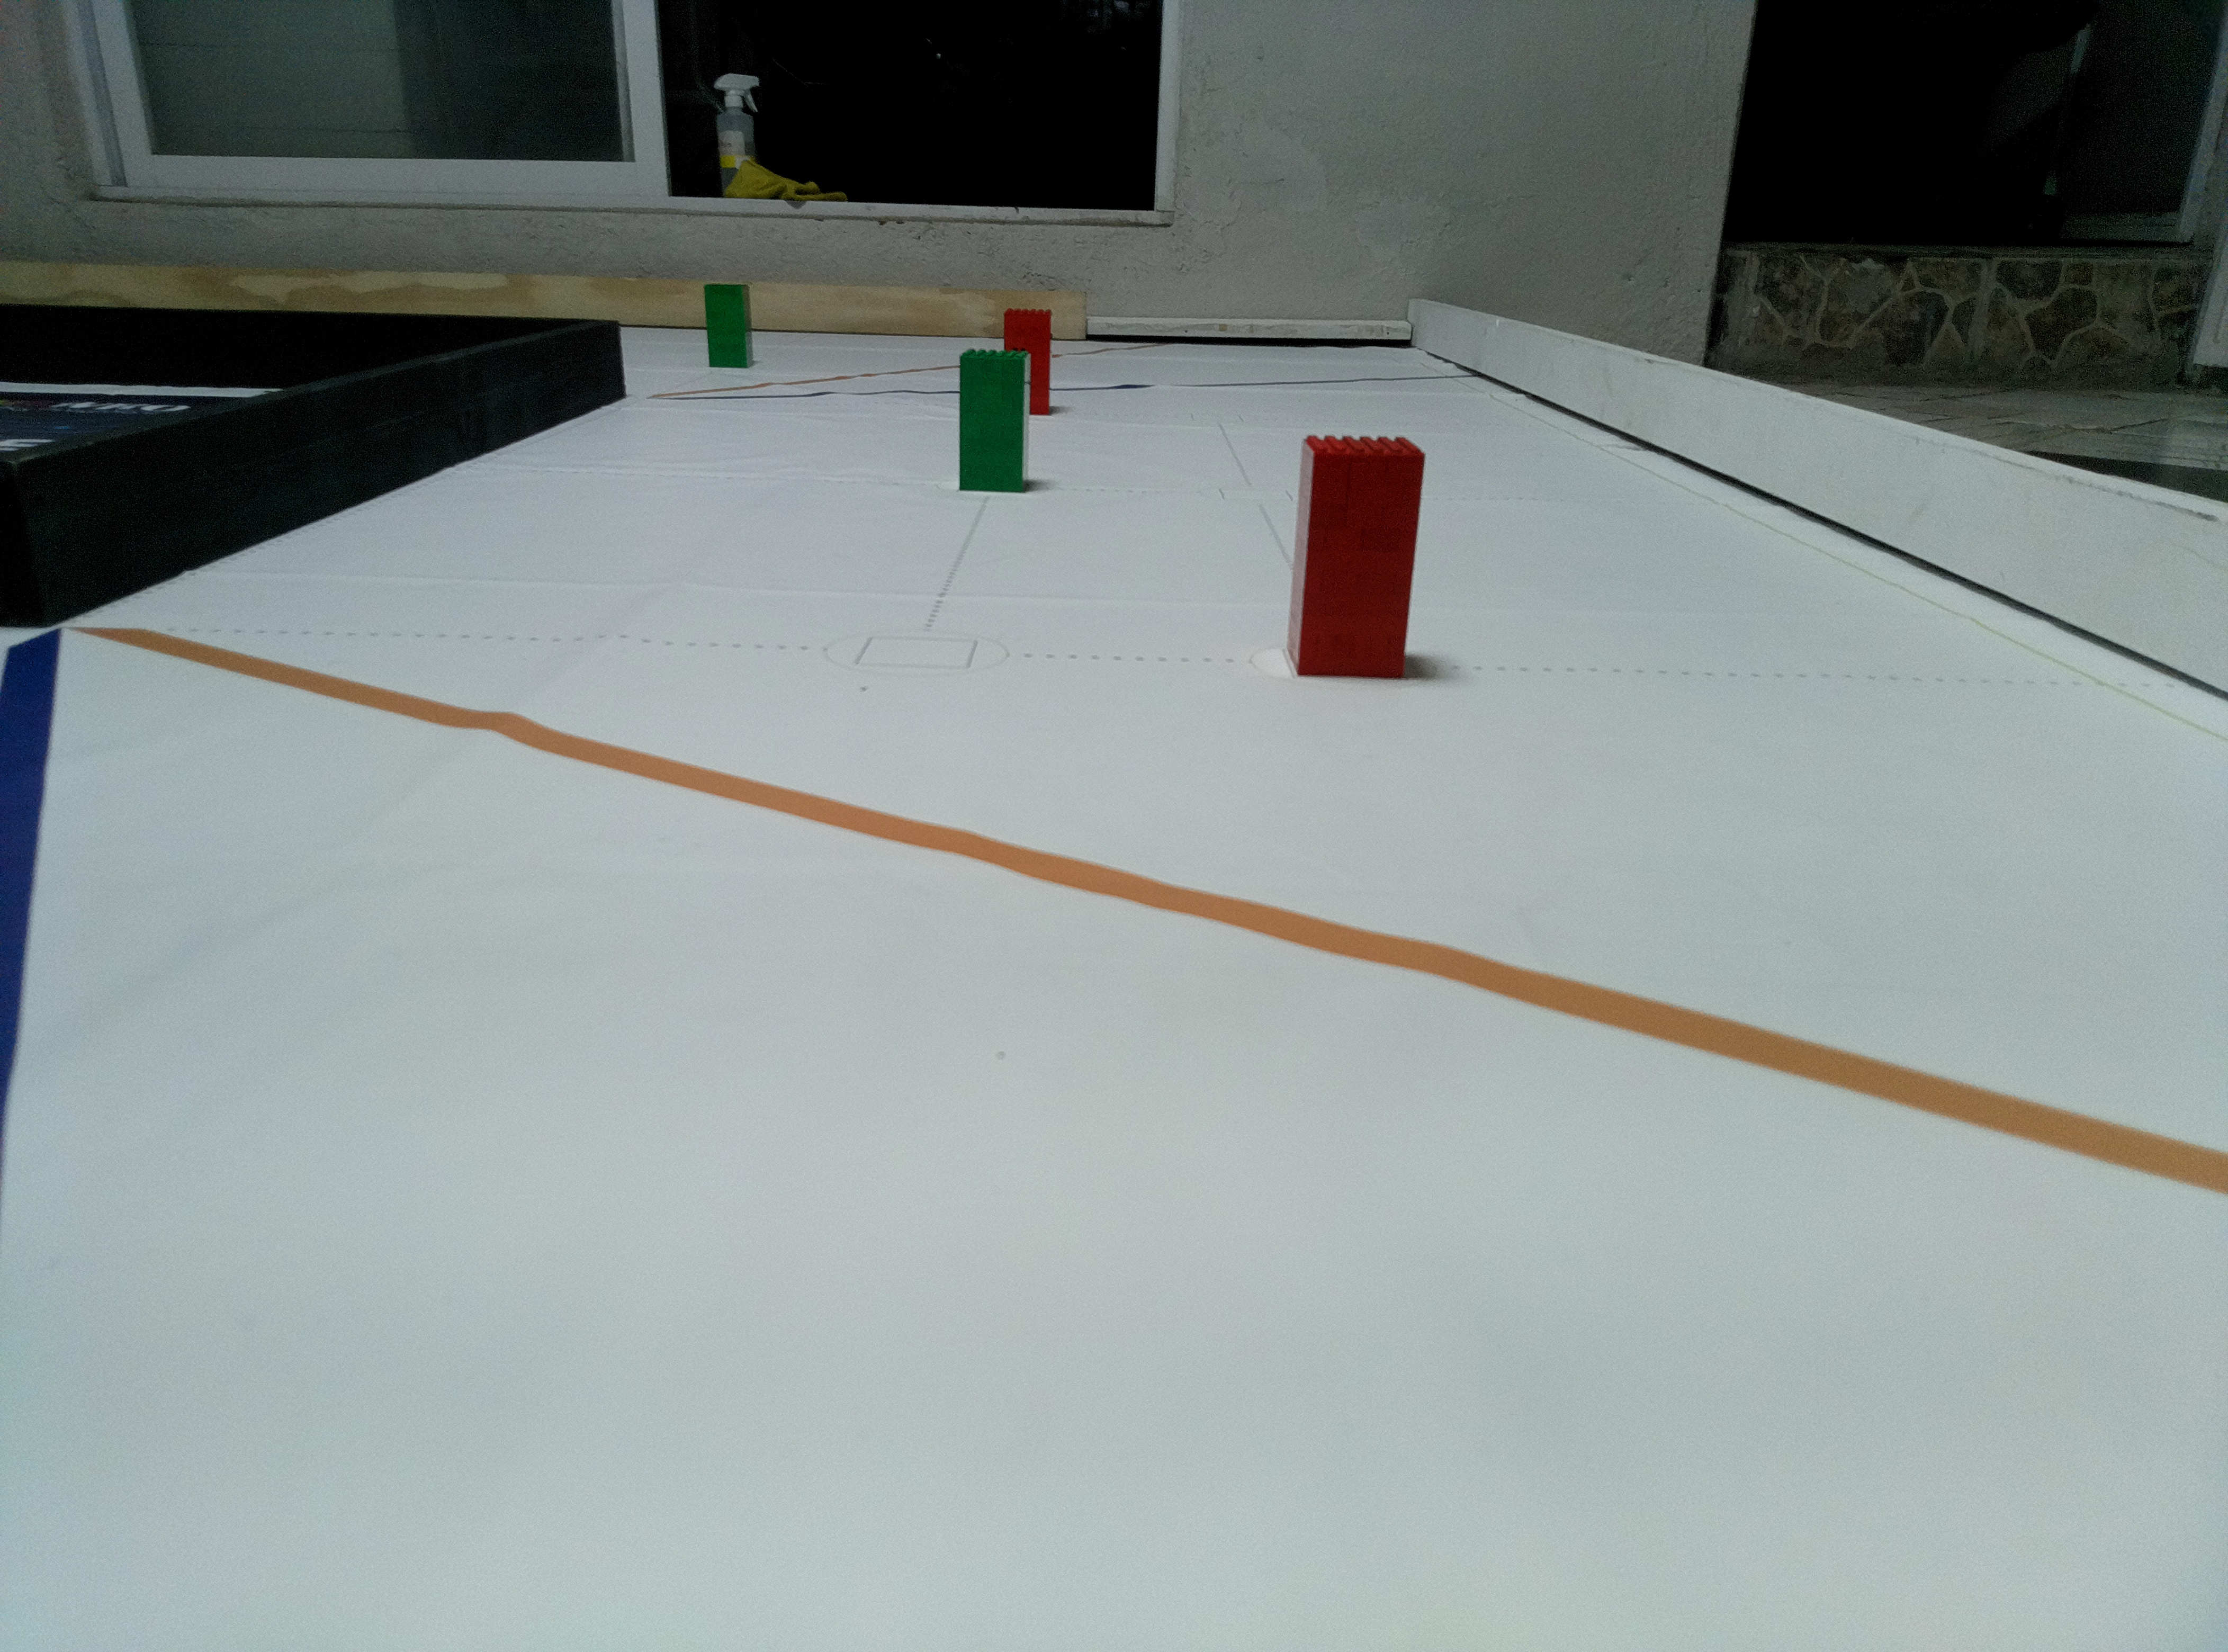greenbox: (960, 349, 1032, 495), (703, 283, 753, 370)
redbox: (1282, 434, 1428, 680), (1003, 305, 1052, 415)
